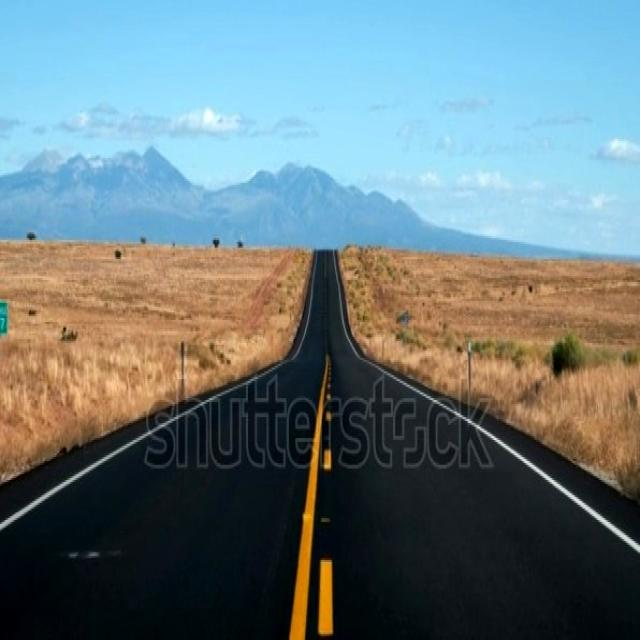lane: (289, 356, 329, 638), (318, 558, 332, 634)
